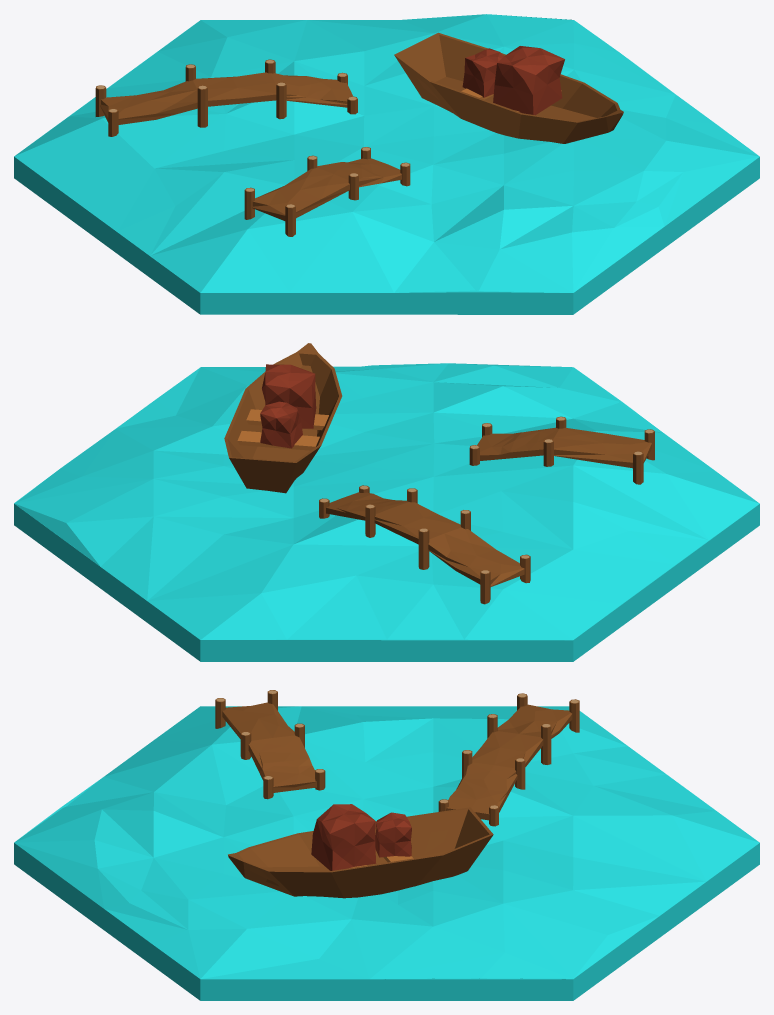
File: brickPort.fbx
3 views of the same model, one above another, from view 1: azimuth 30°, elevation 25°; view 2: azimuth 150°, elevation 25°; view 3: azimuth 270°, elevation 25° (orthographic).
Visible parts, largest first — view 1: Cylinder.010; view 2: Cylinder.010; view 3: Cylinder.010.
Boxes of the visible parts, <box> form: Cylinder.010: <box>14,14,759,314</box>; Cylinder.010: <box>14,343,759,661</box>; Cylinder.010: <box>14,690,759,1000</box>.
Size of the model in its own units: 173 by 32.55 by 200.
